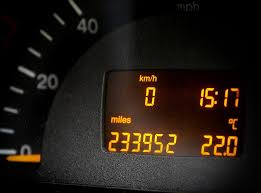Digital_Meter: (100, 124, 190, 158)
